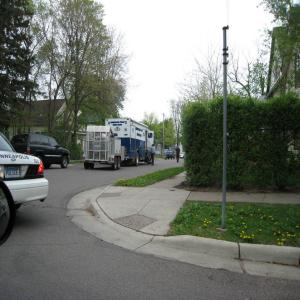Vehicle-registration-plate: (5, 167, 22, 177)
